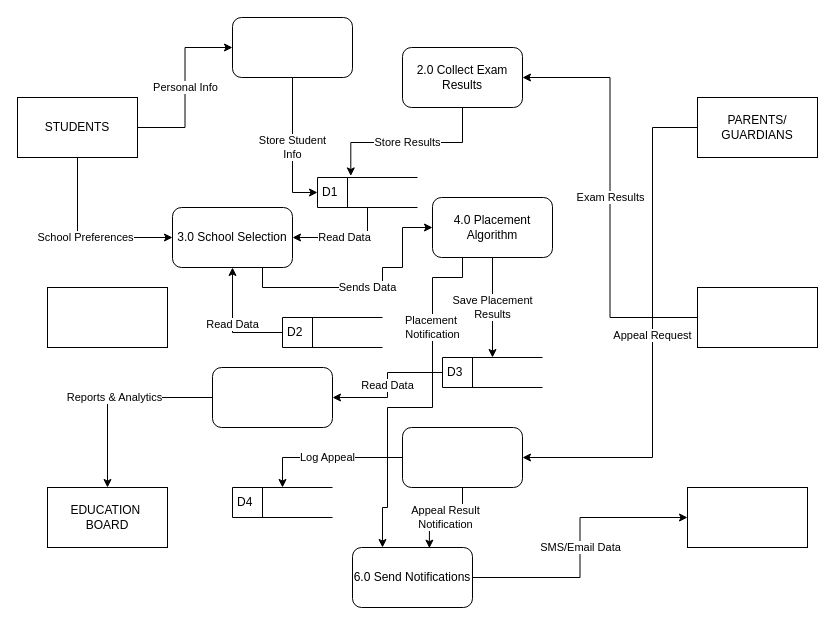
This 835x625 diagram has some shape labels left out. Here are the shapes that lost their labels. From the top down, the centre of each, then its label:
point (292, 47): 1.0 Student Registraion
point (107, 317): ADMINS
point (757, 317): EXAM BODY
point (272, 397): 7.0 Admin Reports
point (462, 457): 5.0 Handle Appeals
point (747, 517): NOTIFICATION SYSTEM
